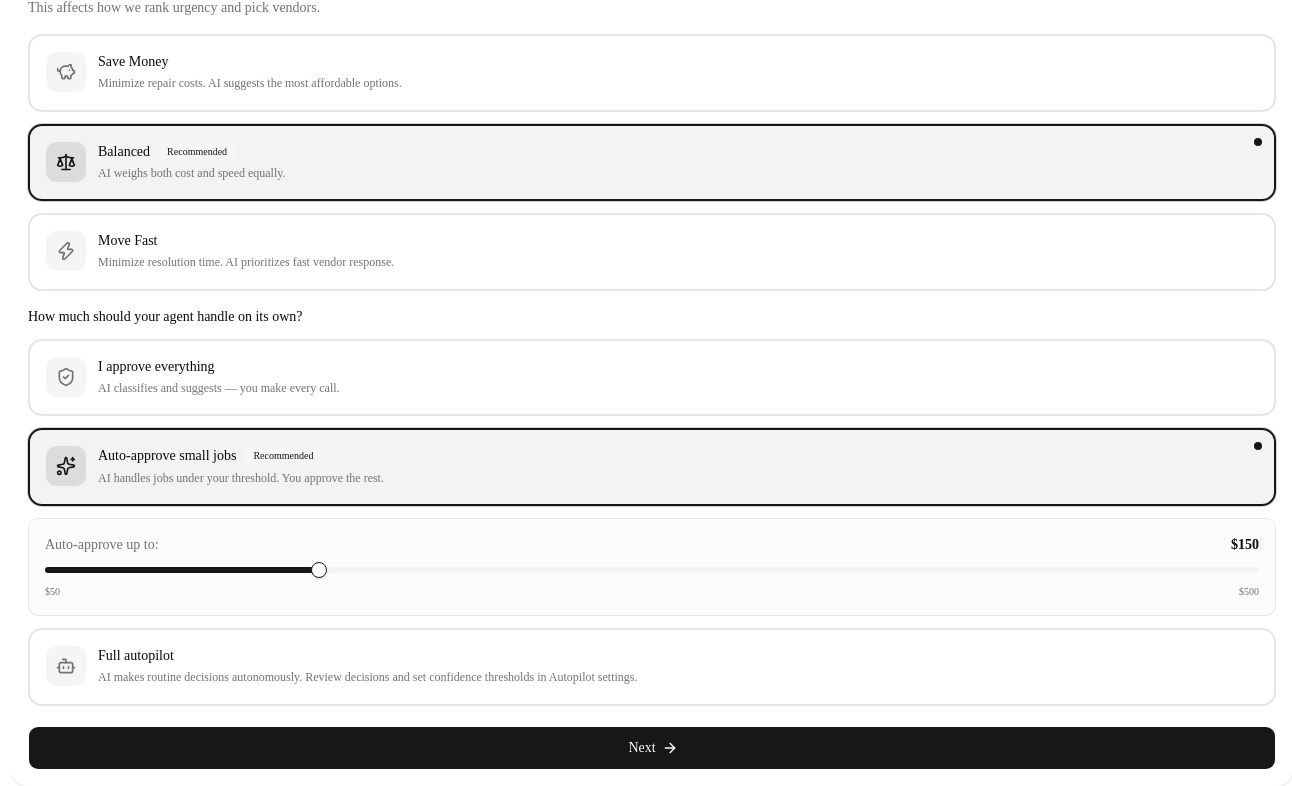
OnboardingWizard › validates property name on step 2
(page scrolled)
# Go to step 2
Click the button "Next".
click(652, 748)  # box [28, 726, 1276, 770]
(page scrolled)
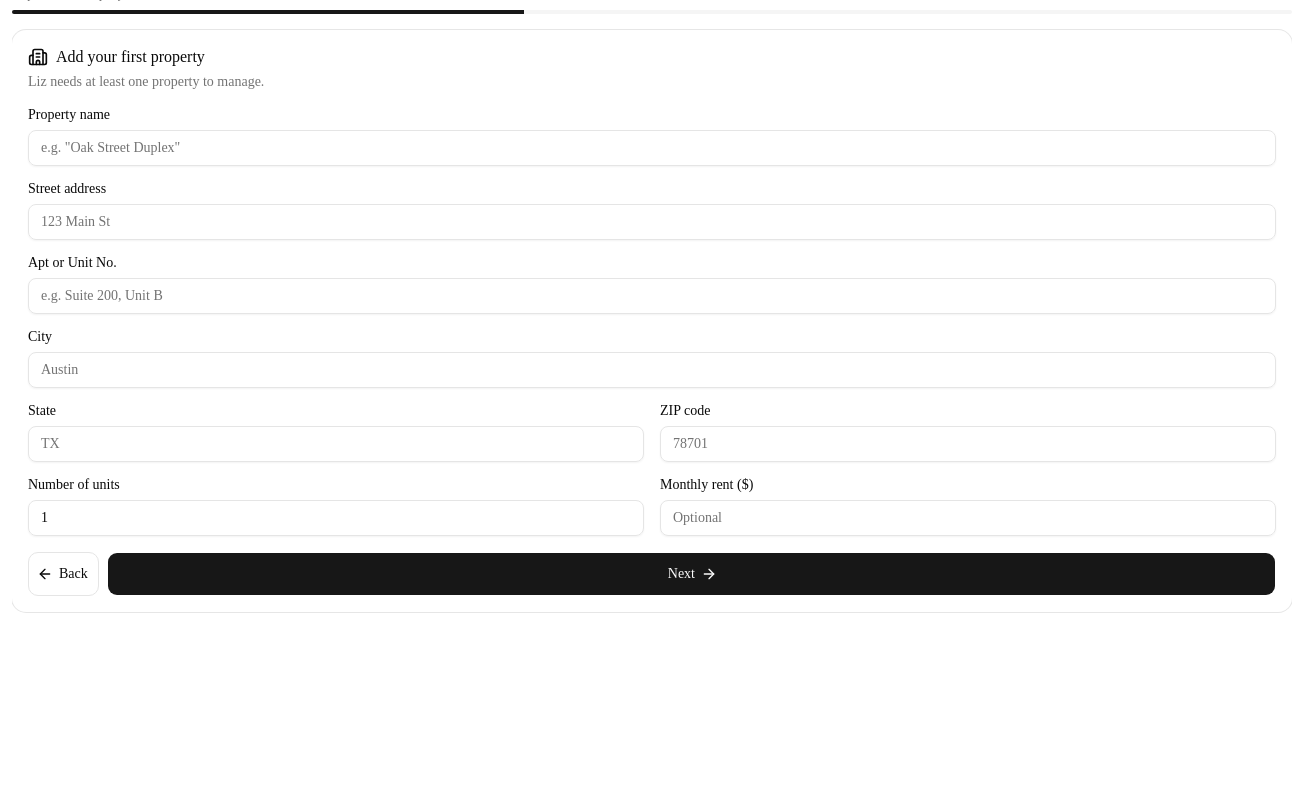
# Try to advance without filling
Click the button "Next".
click(691, 574)  # box [107, 552, 1276, 596]
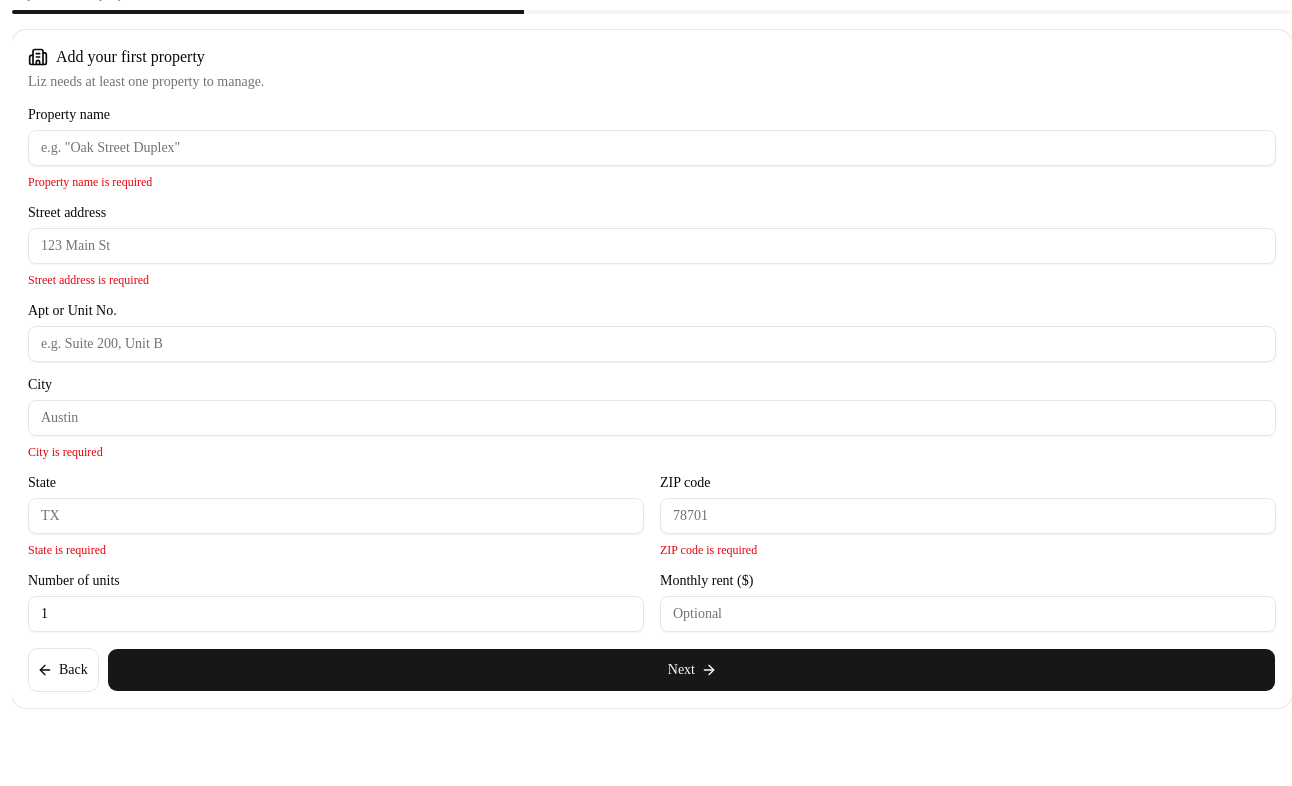
Now the text "Property name is required" is shown, box [28, 175, 152, 189]
